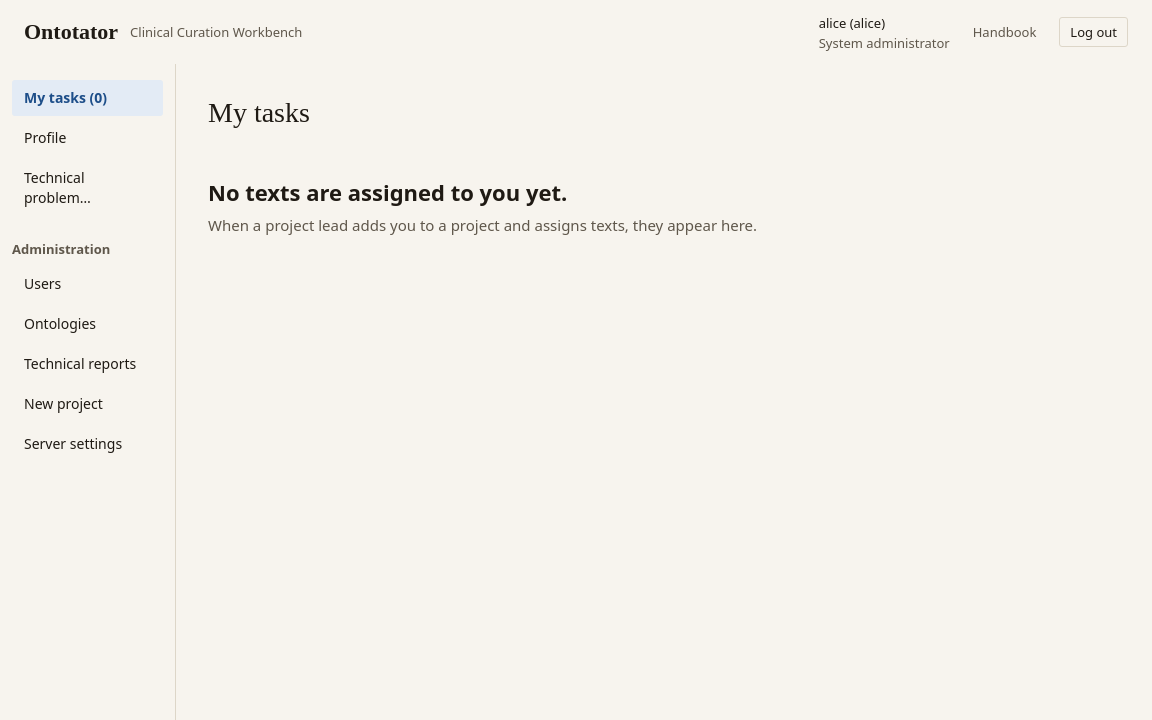
Test: uses the assigned task list, cleans old identity preferences and routes through the real shell
This screenshot has width=1152, height=720.
Check: the heading "My tasks" is shown, box x1=208 y1=97 x2=310 y2=128
Click the link "Users".
click(43, 284)  # box x1=24 y1=274 x2=61 y2=293
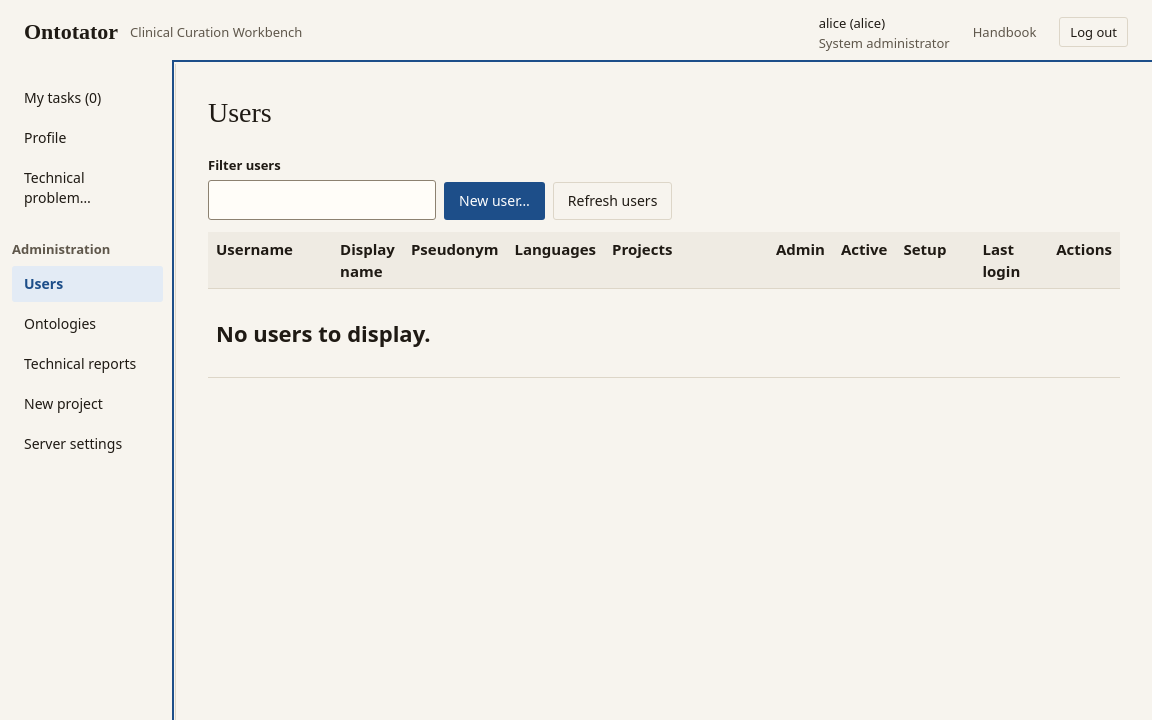
Check: the number of headers is 1, box x1=24 y1=14 x2=1128 y2=52
Check: the heading "Users" is shown, box x1=208 y1=97 x2=272 y2=128
